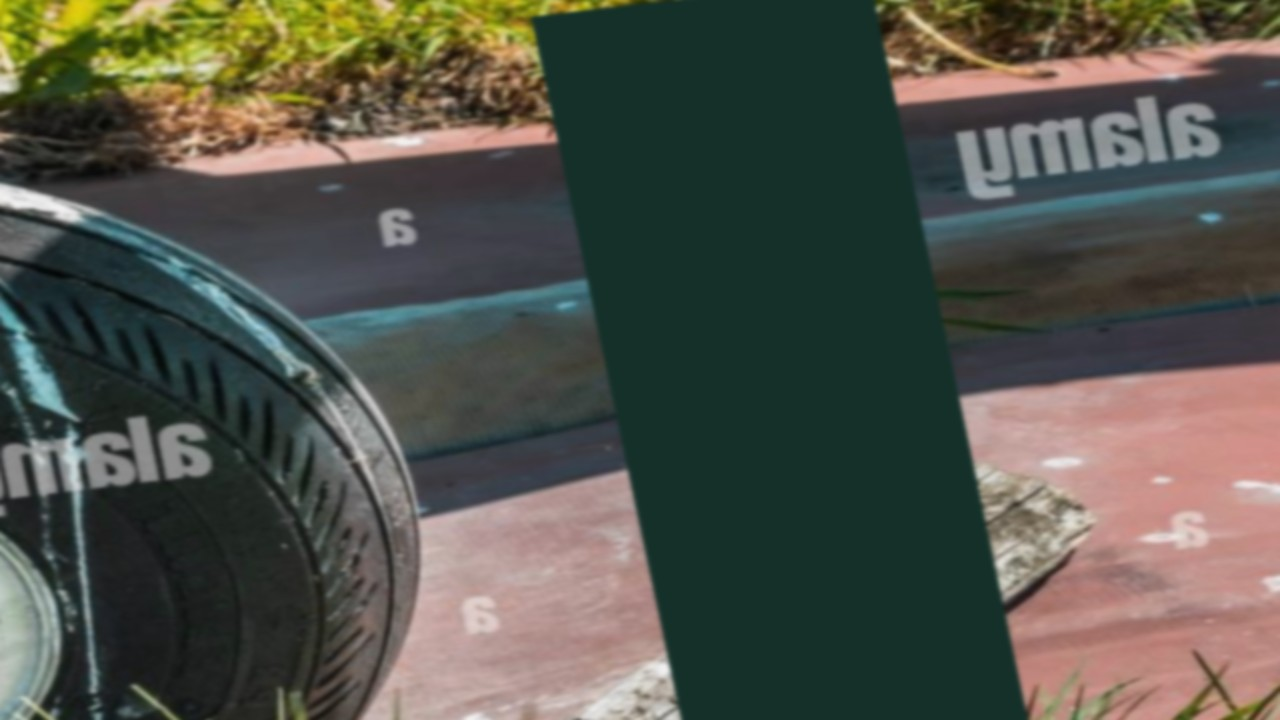chock: (425, 423, 1156, 720)
wheel: (0, 85, 495, 720)
